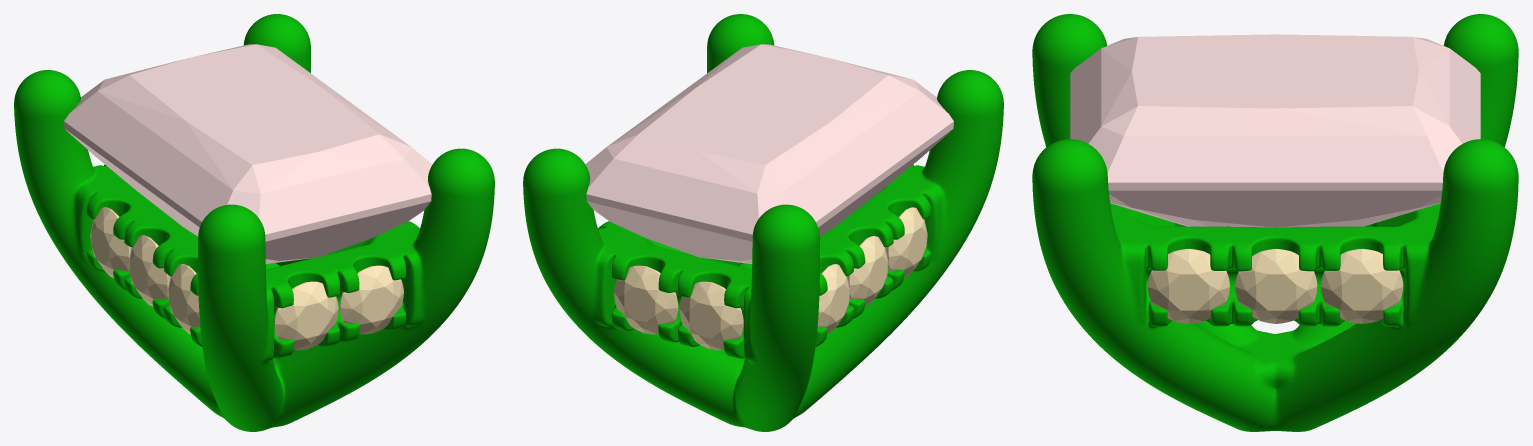
3 views of the same model, side by side, from view 1: azimuth 30°, elevation 25°; view 2: azimuth 150°, elevation 25°; view 3: azimuth 270°, elevation 25° (orthographic). The views are drawn at different scales.
Visible parts, largest first — view 1: Metal01, Diamond_Radiant, Diamond_Round.008, Diamond_Round.009, Diamond_Round.002, Diamond_Round, Diamond_Round.001; view 2: Metal01, Diamond_Radiant, Diamond_Round.007, Diamond_Round.006, Diamond_Round.002, Diamond_Round.001, Diamond_Round; view 3: Metal01, Diamond_Radiant, Diamond_Round.004, Diamond_Round.003, Diamond_Round.005.
Part boxes in pixels (bbox=[...]): Metal01: bbox=[14, 14, 494, 431]; Diamond_Radiant: bbox=[64, 44, 432, 263]; Diamond_Round.008: bbox=[274, 281, 338, 350]; Diamond_Round.009: bbox=[339, 265, 403, 334]; Diamond_Round.002: bbox=[128, 235, 170, 306]; Diamond_Round: bbox=[90, 207, 131, 277]; Diamond_Round.001: bbox=[167, 264, 200, 334]; Metal01: bbox=[523, 14, 1003, 431]; Diamond_Radiant: bbox=[585, 44, 953, 263]; Diamond_Round.007: bbox=[614, 265, 678, 334]; Diamond_Round.006: bbox=[679, 281, 743, 350]; Diamond_Round.002: bbox=[847, 236, 888, 306]; Diamond_Round.001: bbox=[885, 207, 927, 277]; Diamond_Round: bbox=[817, 264, 850, 334]; Metal01: bbox=[1032, 14, 1518, 431]; Diamond_Radiant: bbox=[1070, 34, 1480, 227]; Diamond_Round.004: bbox=[1235, 248, 1317, 323]; Diamond_Round.003: bbox=[1148, 248, 1229, 323]; Diamond_Round.005: bbox=[1321, 248, 1403, 323].
Bounding box in the file's own units: 4.98 × 5.15 × 6.52.
